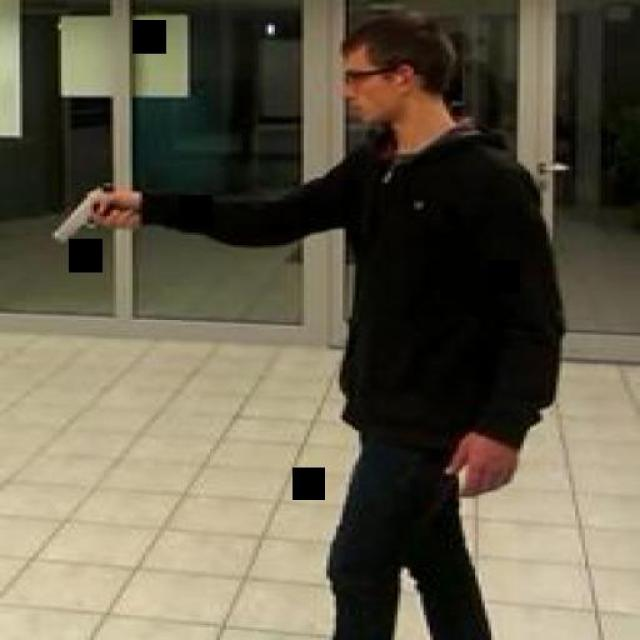gun: (45, 181, 123, 241)
